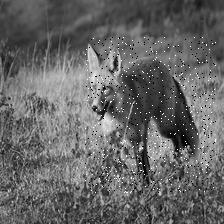fox: (85, 38, 216, 194)
